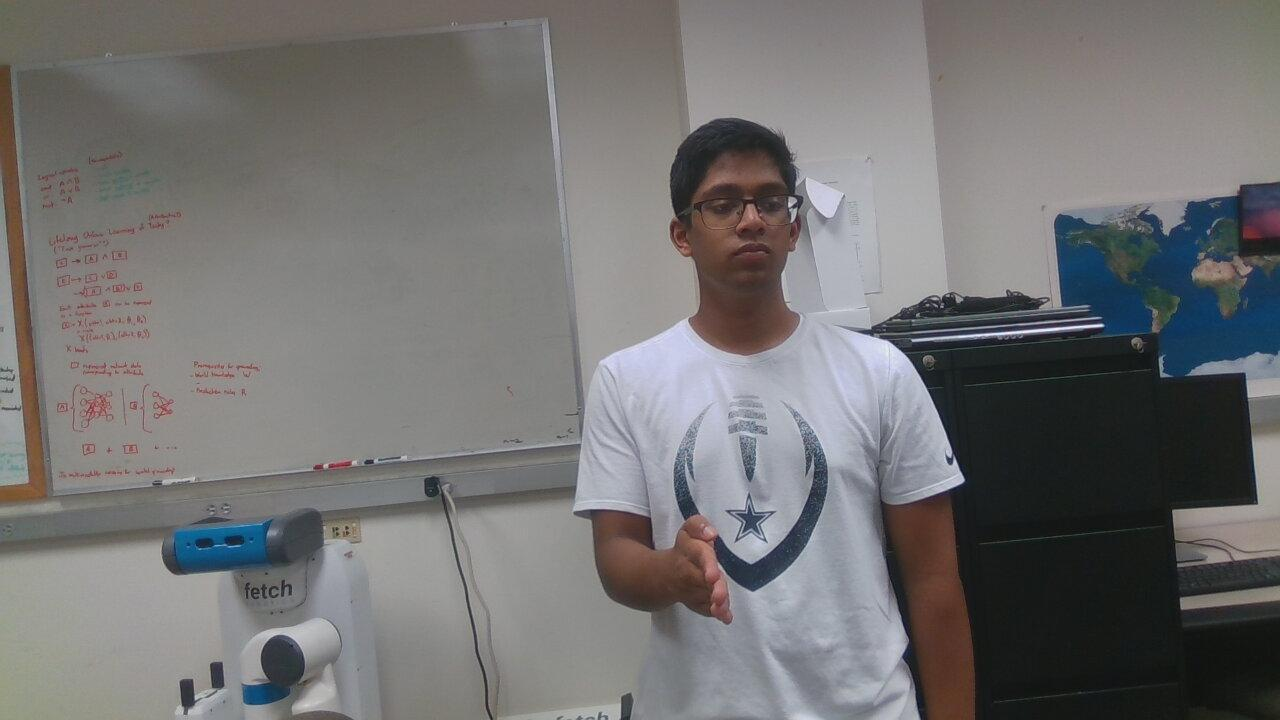hands: (656, 517, 759, 632)
